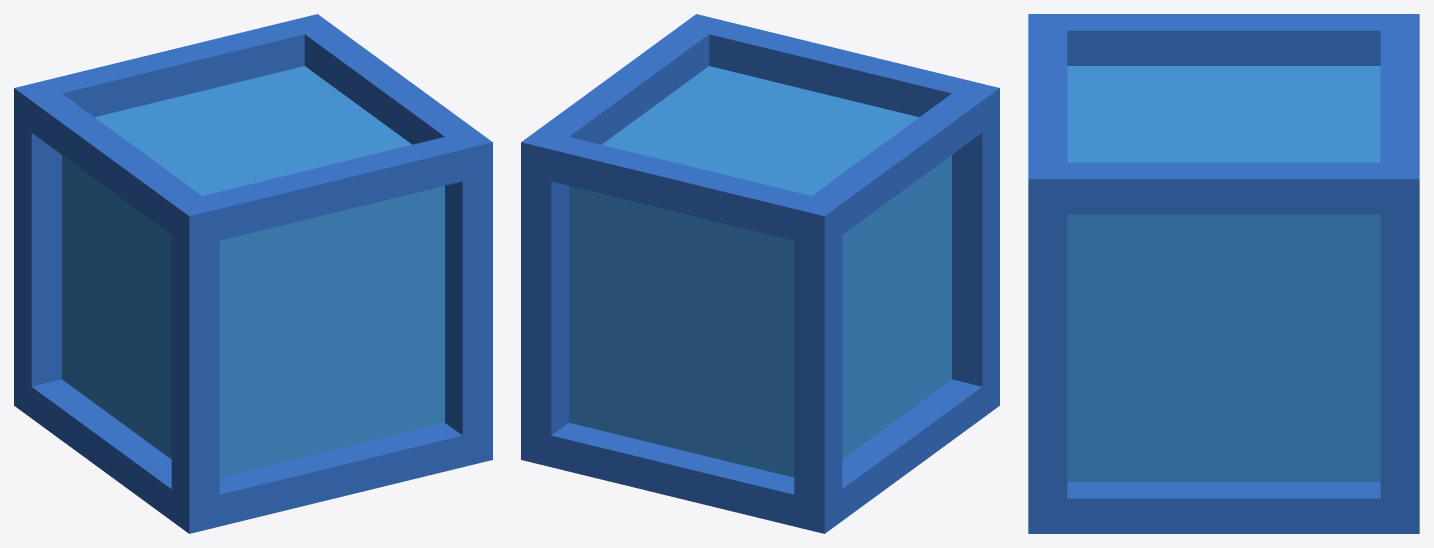
Rendered from 0.2mBasicExtraSmallCube.fbx.
The picture shows the model from 3 angles, left to right: view 1: azimuth 30°, elevation 25°; view 2: azimuth 150°, elevation 25°; view 3: azimuth 270°, elevation 25°; orthographic projection. The views are drawn at different scales.
Parts seen in each view (by area): view 1: 0.2; view 2: 0.2; view 3: 0.2.
Boxes of the visible parts, box(x1,y1,x2,y2) form: 0.2: box(14, 14, 492, 533); 0.2: box(521, 14, 999, 533); 0.2: box(1028, 14, 1419, 533).
Size of the model in its own units: 20 by 20 by 20.
